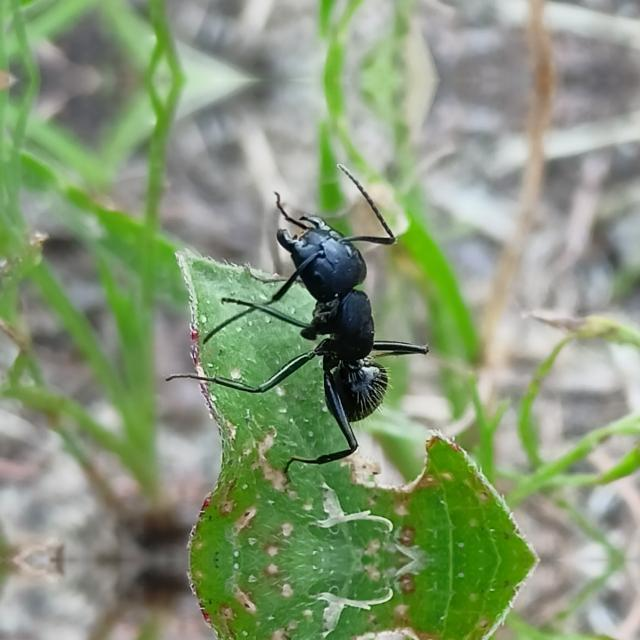Camponotus: (215, 182, 445, 438)
